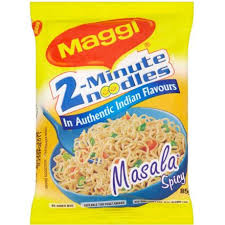maggi: (53, 18, 141, 57)
